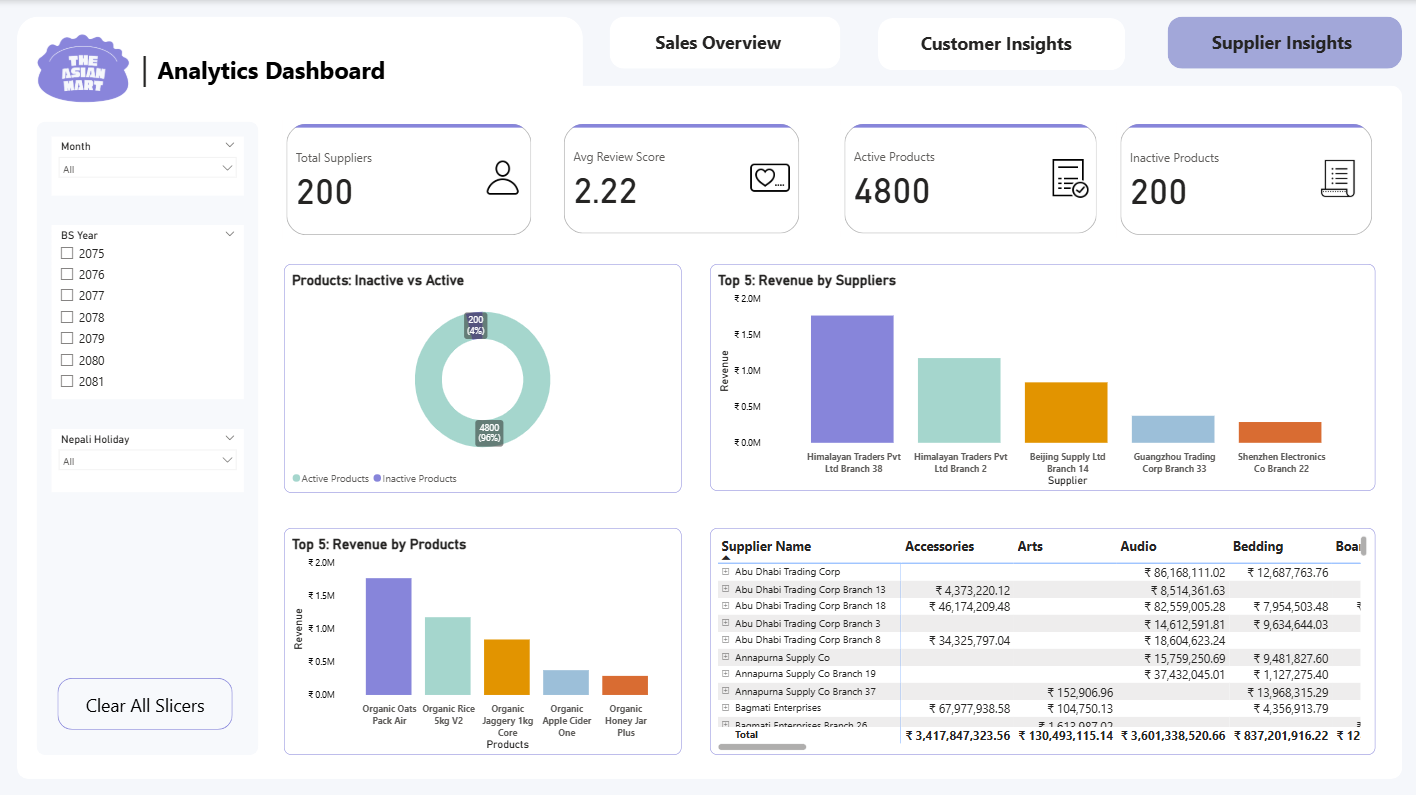

Layout of this report page (visuals, bound fields, positions):
{"tool":"powerbi","page":{"name":"Suppliers","canvas":[1920,1080],"ordinal":2},"visuals":[{"type":"shape","box":[25,115,1872.5,937.5],"z":0},{"type":"actionButton","box":[824.4,22,312.2,70.7],"z":1000},{"type":"actionButton","box":[1187.8,24.4,334.1,70.7],"z":2000},{"type":"actionButton","box":[1580.5,22,317.1,70.7],"z":3000},{"type":"shape","box":[25,22.5,765,115],"z":4000},{"type":"image","box":[40.6,17.5,144.4,145],"z":5000},{"type":"textbox","box":[187.1,57.1,21.4,71.4],"z":6000},{"type":"textbox","box":[208.9,67.8,329.4,61.1],"z":7000},{"type":"textbox","box":[882.9,34.1,202.4,53.7],"z":8000},{"type":"textbox","box":[1241.5,36.6,226.8,53.7],"z":9000},{"type":"textbox","box":[1634.1,34.1,209.8,43.9],"z":10000},{"type":"shape","box":[50,163.3,300,856.7],"z":11000},{"type":"cardVisual","fields":{"Data":["suppliers.Total Suppliers"]},"box":[383.8,162.8,342,160.5],"z":12000},{"type":"cardVisual","fields":{"Data":["suppliers.Avg Review Score by Supplier"]},"box":[758.4,162.8,328,158.2],"z":13000},{"type":"cardVisual","fields":{"Data":["products.Active Products"]},"box":[1137.6,162.8,351.3,158.2],"z":14000},{"type":"cardVisual","fields":{"Data":["products.Inactive Products"]},"box":[1510,162.5,350,160],"z":15000},{"type":"actionButton","box":[80,916.7,236.7,70],"z":16000},{"type":"donutChart","title":"Products: Inactive vs Active","fields":{"Y":["products.Active Products","products.Inactive Products"]},"box":[385.6,356.3,537.4,309.6],"z":17000},{"type":"slicer","fields":{"Values":["dates.month_name"]},"box":[70,184,260,80],"z":18000},{"type":"slicer","fields":{"Values":["dates.BS Year"]},"box":[70,305,260,235],"z":19000},{"type":"slicer","fields":{"Values":["dates.is_np_holiday"]},"box":[70,580,260,85],"z":20000},{"type":"clusteredColumnChart","title":"Top 5: Revenue by Suppliers","fields":{"Y":["order_items.Total Revenue"],"Category":["suppliers.supplier_name"]},"box":[961,356.3,899.6,306.7],"z":21000},{"type":"clusteredColumnChart","title":"Top 5: Revenue by Products","fields":{"Y":["order_items.Total Revenue"],"Category":["products.product_name"]},"box":[385.6,712.7,537.4,306.7],"z":22000},{"type":"pivotTable","title":"Revenue vs Payment Method","fields":{"Values":["order_items.Total Revenue"],"Rows":["suppliers.supplier_name","products.Product Hierarchy.category"],"Columns":["products.subcategory"]},"box":[961,712.7,899.6,306.7],"z":23000}]}

Visuals, with their boxes in screenshot pixels (x1, y1, x2, y2), scaled from the page's 1920x1080 canvas onto the 1416x795 screenshot:
shape: x1=18, y1=85, x2=1399, y2=775
actionButton: x1=608, y1=16, x2=838, y2=68
actionButton: x1=876, y1=18, x2=1122, y2=70
actionButton: x1=1166, y1=16, x2=1399, y2=68
shape: x1=18, y1=17, x2=583, y2=101
image: x1=30, y1=13, x2=136, y2=120
textbox: x1=138, y1=42, x2=154, y2=95
textbox: x1=154, y1=50, x2=397, y2=95
textbox: x1=651, y1=25, x2=800, y2=65
textbox: x1=916, y1=27, x2=1083, y2=66
textbox: x1=1205, y1=25, x2=1360, y2=57
shape: x1=37, y1=120, x2=258, y2=751
cardVisual - suppliers.Total Suppliers: x1=283, y1=120, x2=535, y2=238
cardVisual - suppliers.Avg Review Score by Supplier: x1=559, y1=120, x2=801, y2=236
cardVisual - products.Active Products: x1=839, y1=120, x2=1098, y2=236
cardVisual - products.Inactive Products: x1=1114, y1=120, x2=1372, y2=237
actionButton: x1=59, y1=675, x2=234, y2=726
"Products: Inactive vs Active" donutChart: x1=284, y1=262, x2=681, y2=490
slicer - dates.month_name: x1=52, y1=135, x2=243, y2=194
slicer - dates.BS Year: x1=52, y1=225, x2=243, y2=398
slicer - dates.is_np_holiday: x1=52, y1=427, x2=243, y2=490
"Top 5: Revenue by Suppliers" clusteredColumnChart: x1=709, y1=262, x2=1372, y2=488
"Top 5: Revenue by Products" clusteredColumnChart: x1=284, y1=525, x2=681, y2=750
"Revenue vs Payment Method" pivotTable: x1=709, y1=525, x2=1372, y2=750
